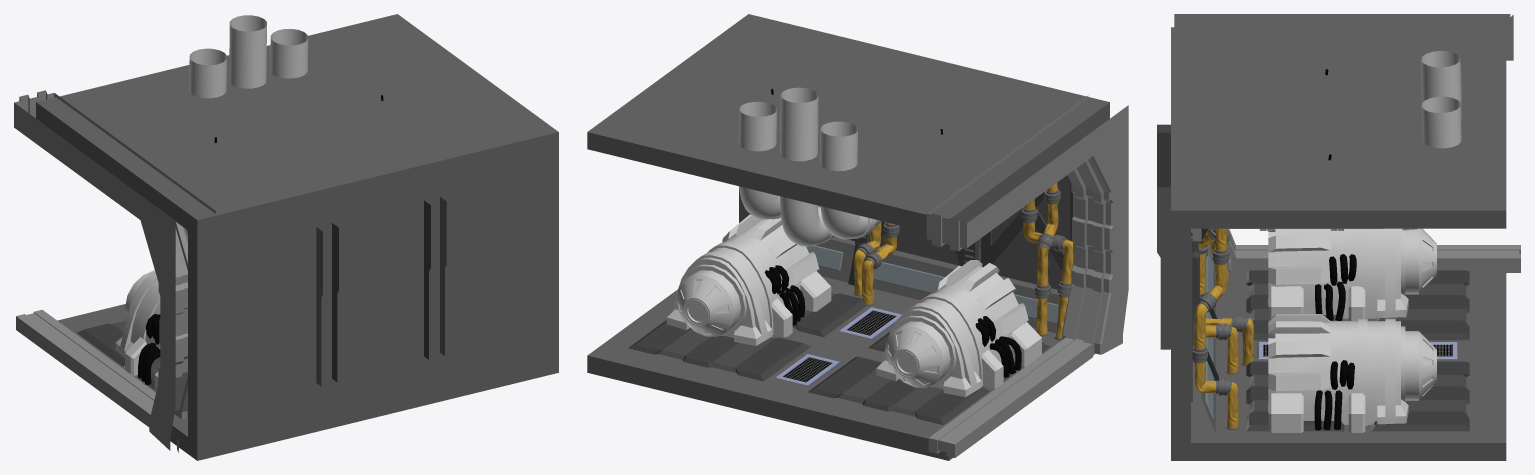
Rendered from Hallway_Segment_005.fbx.
3 views of the same model, side by side, from view 1: azimuth 30°, elevation 25°; view 2: azimuth 150°, elevation 25°; view 3: azimuth 270°, elevation 25° (orthographic). The views are drawn at different scales.
Visible parts, largest first — view 1: Hallway Base.001, Transition.001, Greable.001, Generator, Cylinder, Cylinder.002, Cylinder.001, Panel.001, Wire.006; view 2: Hallway Base.001, Generator, Transition.001, Panel.001, Edge.001, Cylinder, Cylinder.001, Cylinder.002, Wire.006, Greable.001, Tubes.007, Tubes.004 (+4 smaller); view 3: Hallway Base.001, Generator, Panel.001, Transition.001, Greable.001, Tubes.008, Wire.006, Cylinder.002, Cylinder, Edge.001, Tubes.005, Tubes.006 (+1 smaller).
Part boxes in pixels (x1,y1,x2,y2): Hallway Base.001: [36, 14, 558, 460]; Transition.001: [14, 90, 215, 452]; Greable.001: [316, 197, 446, 385]; Generator: [115, 270, 160, 392]; Cylinder: [229, 15, 266, 88]; Cylinder.002: [270, 29, 308, 78]; Cylinder.001: [189, 48, 226, 98]; Panel.001: [77, 320, 154, 389]; Wire.006: [138, 314, 160, 384]; Hallway Base.001: [587, 14, 1109, 460]; Generator: [666, 214, 1041, 397]; Transition.001: [926, 95, 1128, 457]; Panel.001: [628, 292, 1050, 425]; Edge.001: [806, 236, 1059, 333]; Cylinder: [780, 87, 834, 246]; Cylinder.001: [820, 121, 882, 239]; Cylinder.002: [738, 101, 780, 219]; Wire.006: [764, 265, 1021, 377]; Greable.001: [848, 181, 1072, 271]; Tubes.007: [1034, 182, 1060, 335]; Tubes.004: [1021, 199, 1073, 340]; Hallway Base.001: [1171, 27, 1506, 460]; Generator: [1268, 228, 1436, 432]; Panel.001: [1246, 270, 1469, 431]; Transition.001: [1174, 14, 1520, 272]; Greable.001: [1157, 124, 1199, 401]; Tubes.008: [1192, 228, 1239, 429]; Wire.006: [1314, 254, 1356, 430]; Cylinder.002: [1227, 96, 1461, 230]; Cylinder: [1421, 51, 1461, 119]; Edge.001: [1191, 228, 1218, 432]; Tubes.005: [1198, 228, 1239, 374]; Tubes.006: [1205, 229, 1254, 366].
Size of what is drawn, in the model's own units: 2322 by 1737 by 1845.
